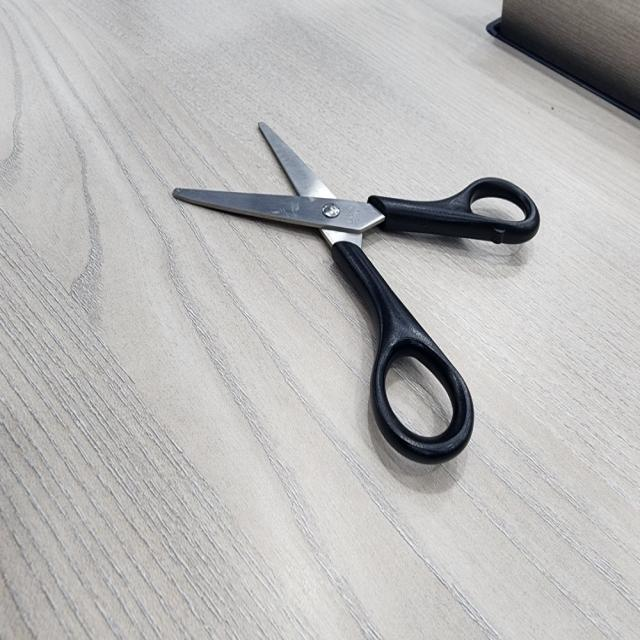scissors: (164, 112, 549, 478)
